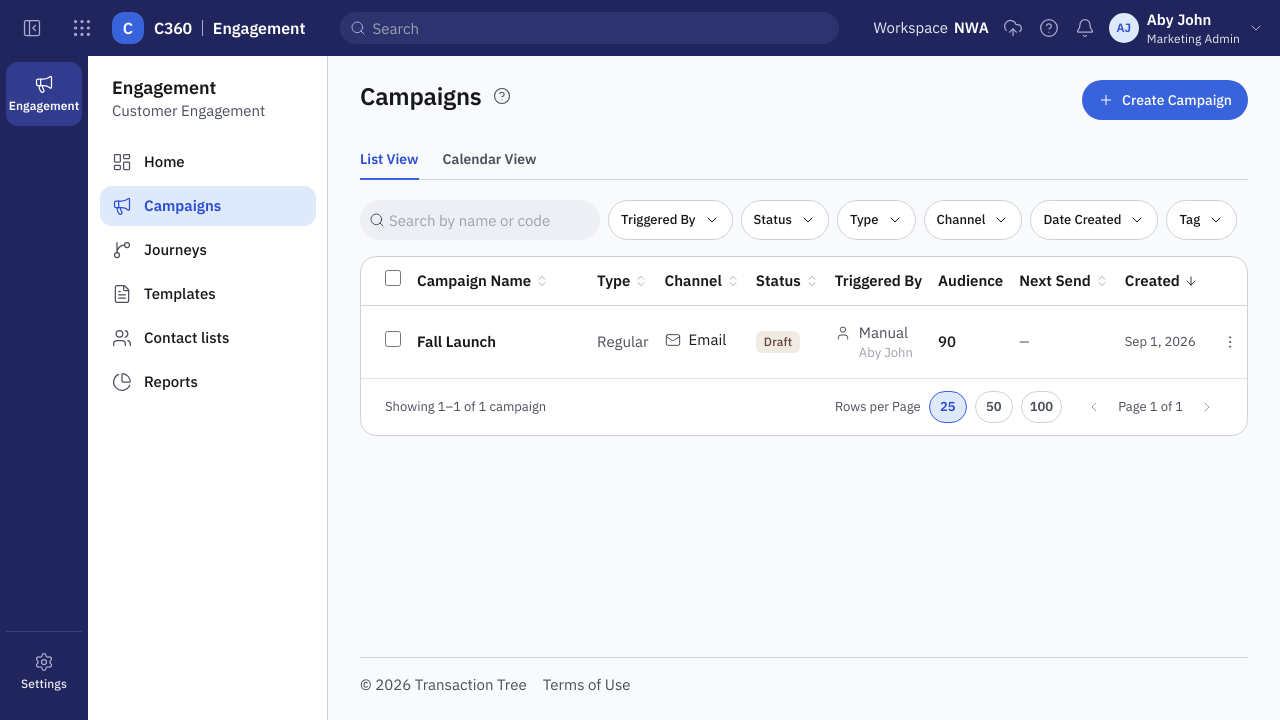
Test case: the launcher lists the workspace’s components as tiles, marks the open one, and names what is coming
Check: the navigation bar named "Main" is shown, box [100,76,316,392]
Click the button named "Apps" at (82, 28), box [62,8,102,48]
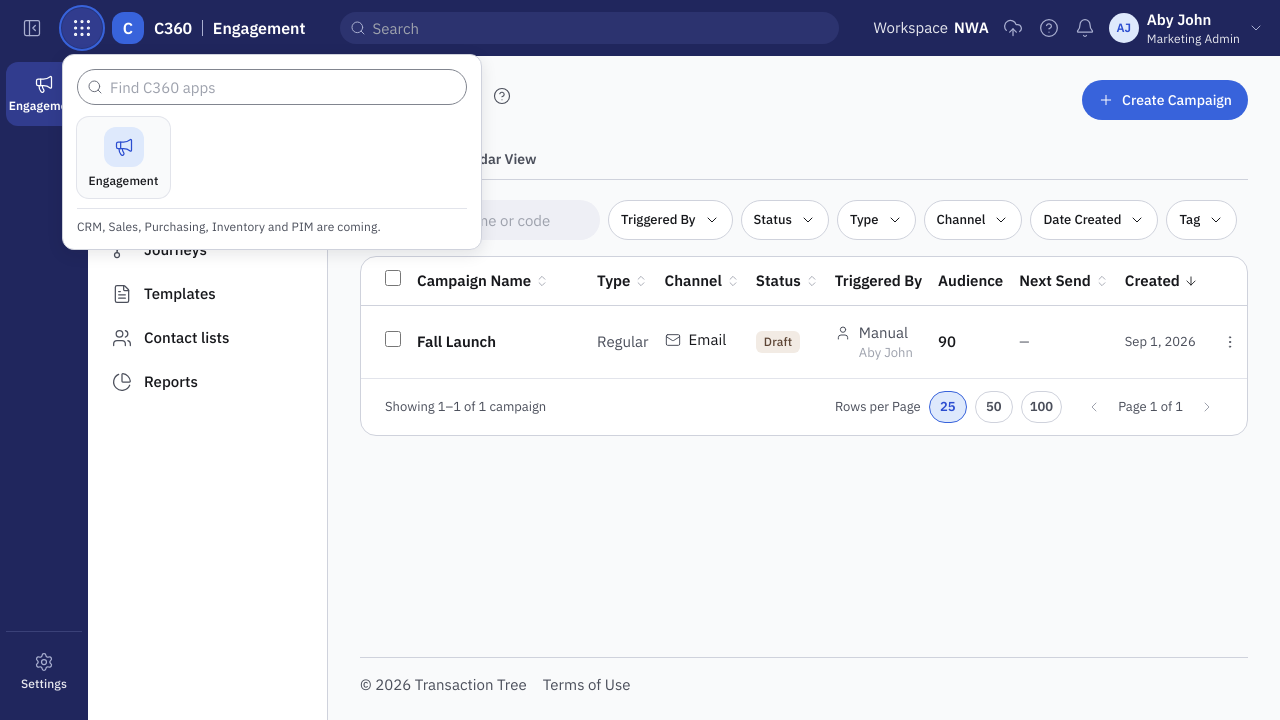
Check: the links read "Engagement", in this order, box [77,117,170,198]
Check: the element named "Apps" shows "CRM, Sales, Purchasing, Inventory and PIM are coming.", box [77,219,381,234]
